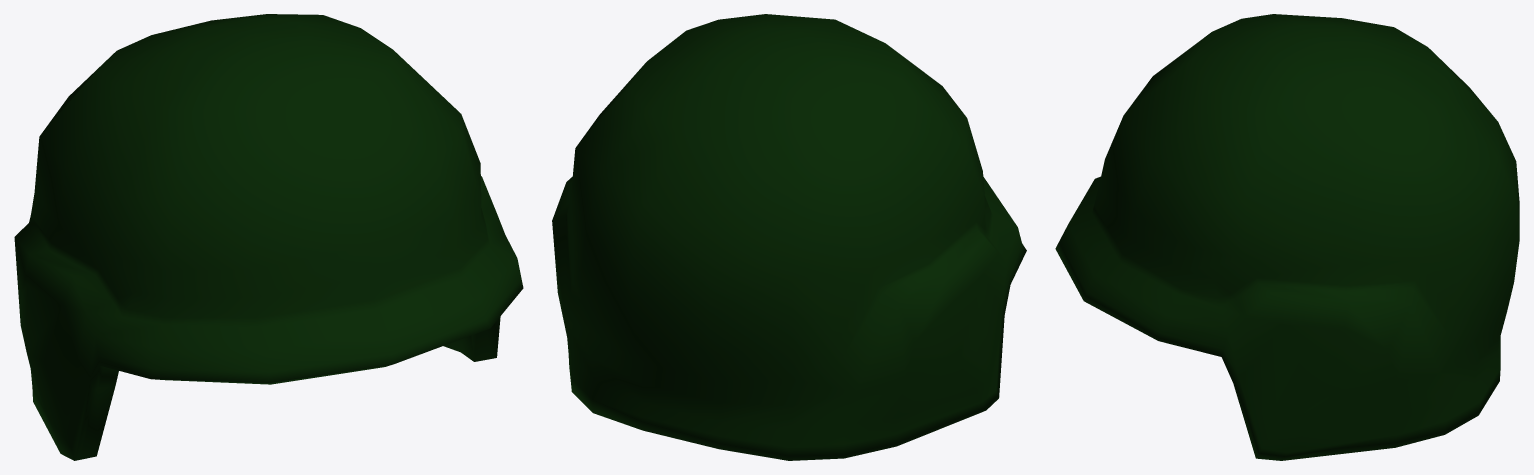
File: NLS_DUO Soldier Helmet.fbx
The picture shows the model from 3 angles, left to right: view 1: azimuth 30°, elevation 25°; view 2: azimuth 150°, elevation 25°; view 3: azimuth 270°, elevation 25°; orthographic projection. The views are drawn at different scales.
Parts seen in each view (by area): view 1: NLS_DUO Soldier Helmet; view 2: NLS_DUO Soldier Helmet; view 3: NLS_DUO Soldier Helmet.
Part boxes in pixels (x1,y1,x2,y2): NLS_DUO Soldier Helmet: (14, 14, 523, 460); NLS_DUO Soldier Helmet: (552, 14, 1026, 460); NLS_DUO Soldier Helmet: (1055, 14, 1519, 460).
Bounding box in the file's own units: 45.27 × 35.87 × 46.3.
